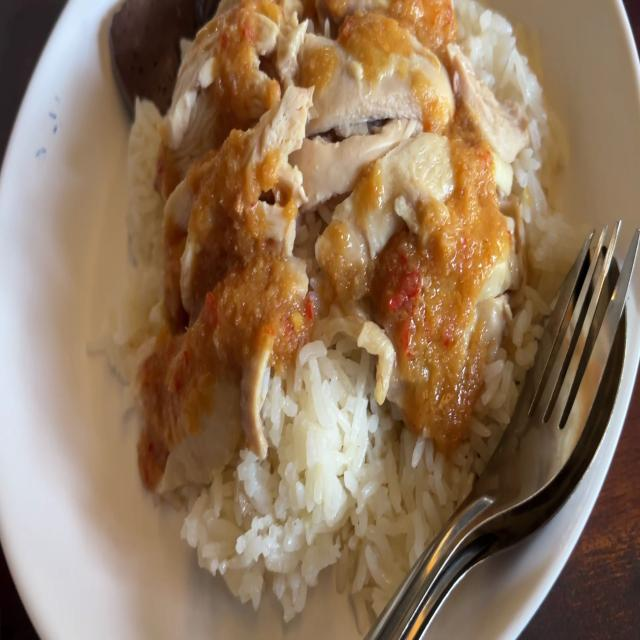boiled_chicken: (170, 0, 498, 422)
boiled_chicken_blood_jelly: (100, 0, 215, 91)
chicken_rice: (88, 0, 556, 598)
